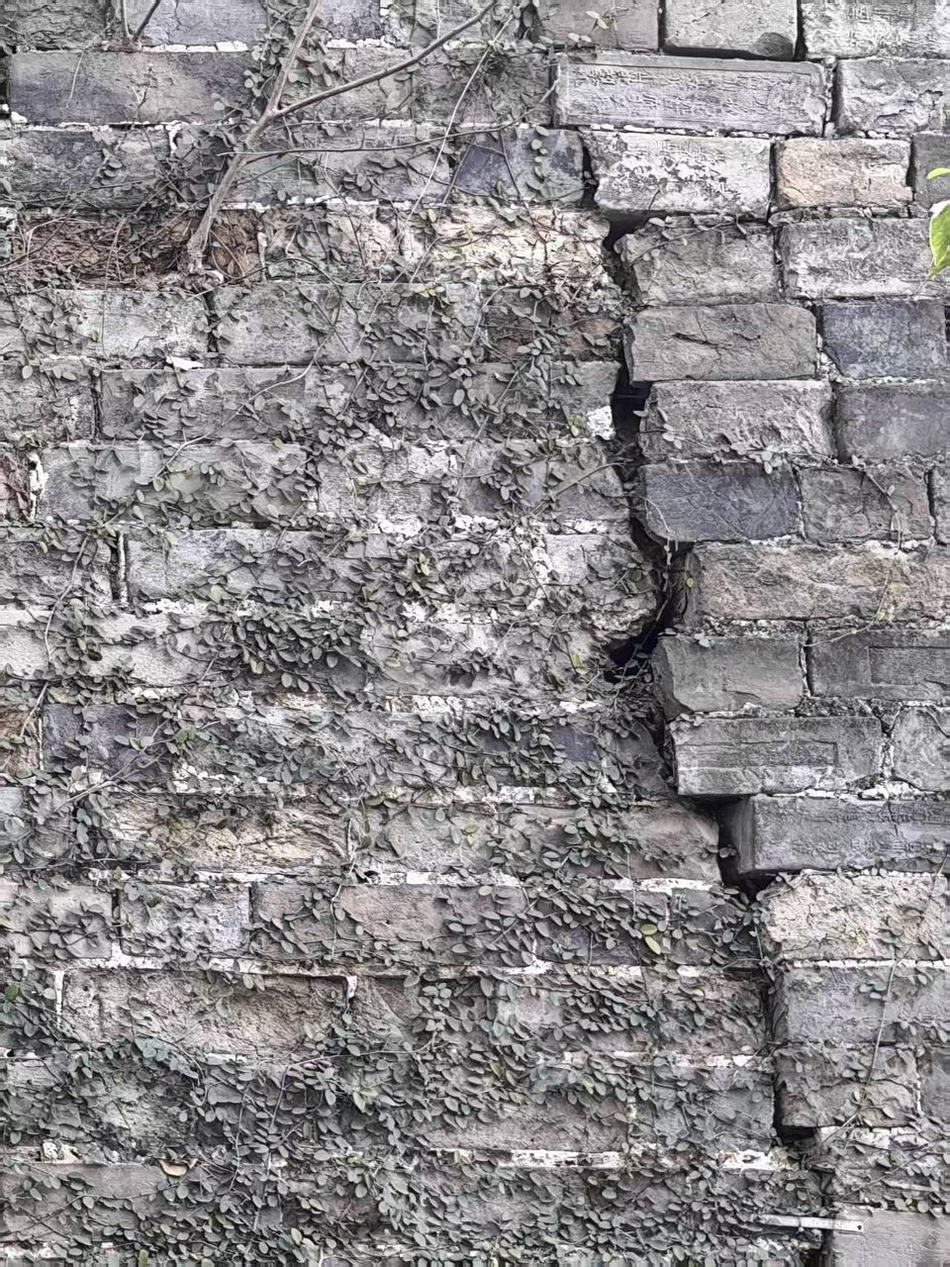crack: (551, 125, 852, 1247)
